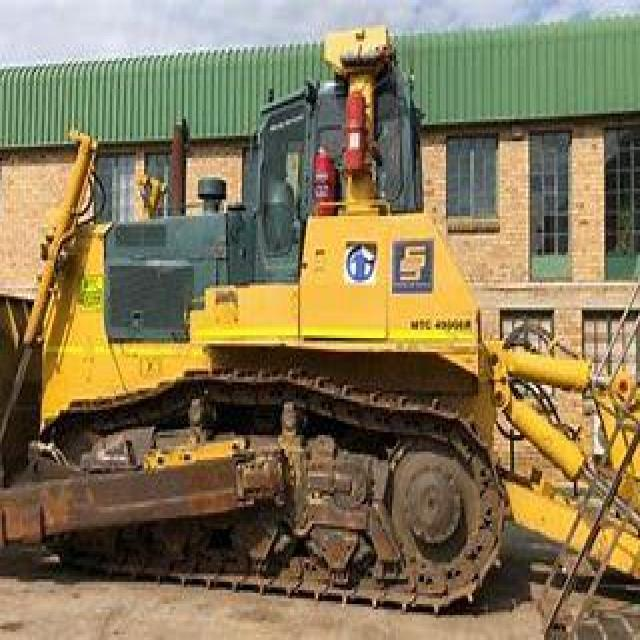Bulldozer: (20, 16, 638, 598)
